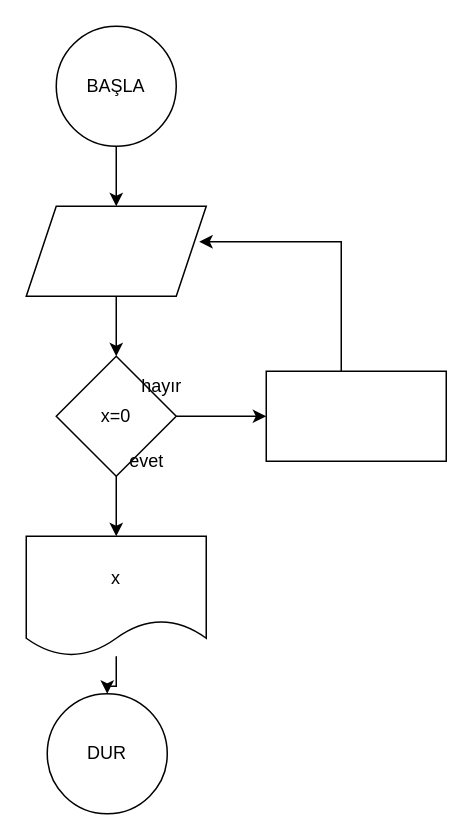
The diagram is 473 pixels wide and 840 high, and some of its shapes have lost their labels. The centre of each missing label's shape, as x and y in pixels:
karışım=x gram: the point at 115,250
x+x-4=karışım: the point at 355,415
